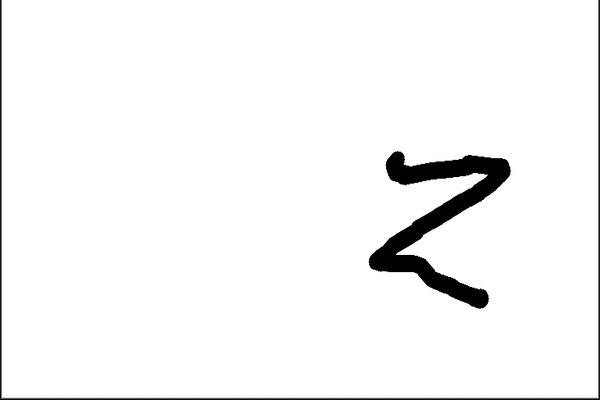Z: (359, 143, 514, 313)
